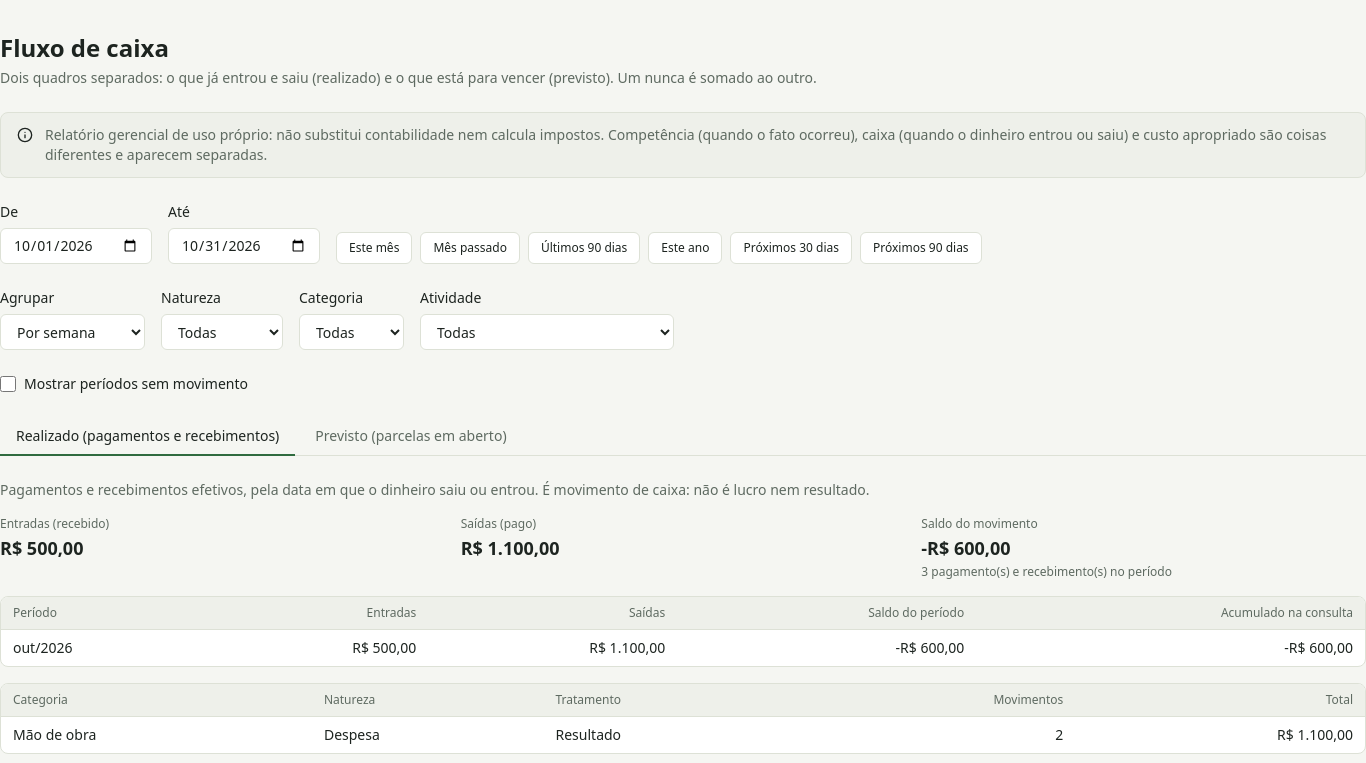
Test: fluxo de caixa › realizado e previsto em abas separadas; aviso de pendentes só no previsto
(page scrolled)
Expected: the text "out/2026" is shown, x1=1 y1=630 x2=209 y2=666
Expected: the text "nov/2026" is not shown
Click the checkbox labelled "Mostrar períodos sem movimento". click: click(8, 384)
box: x1=0 y1=376 x2=16 y2=392
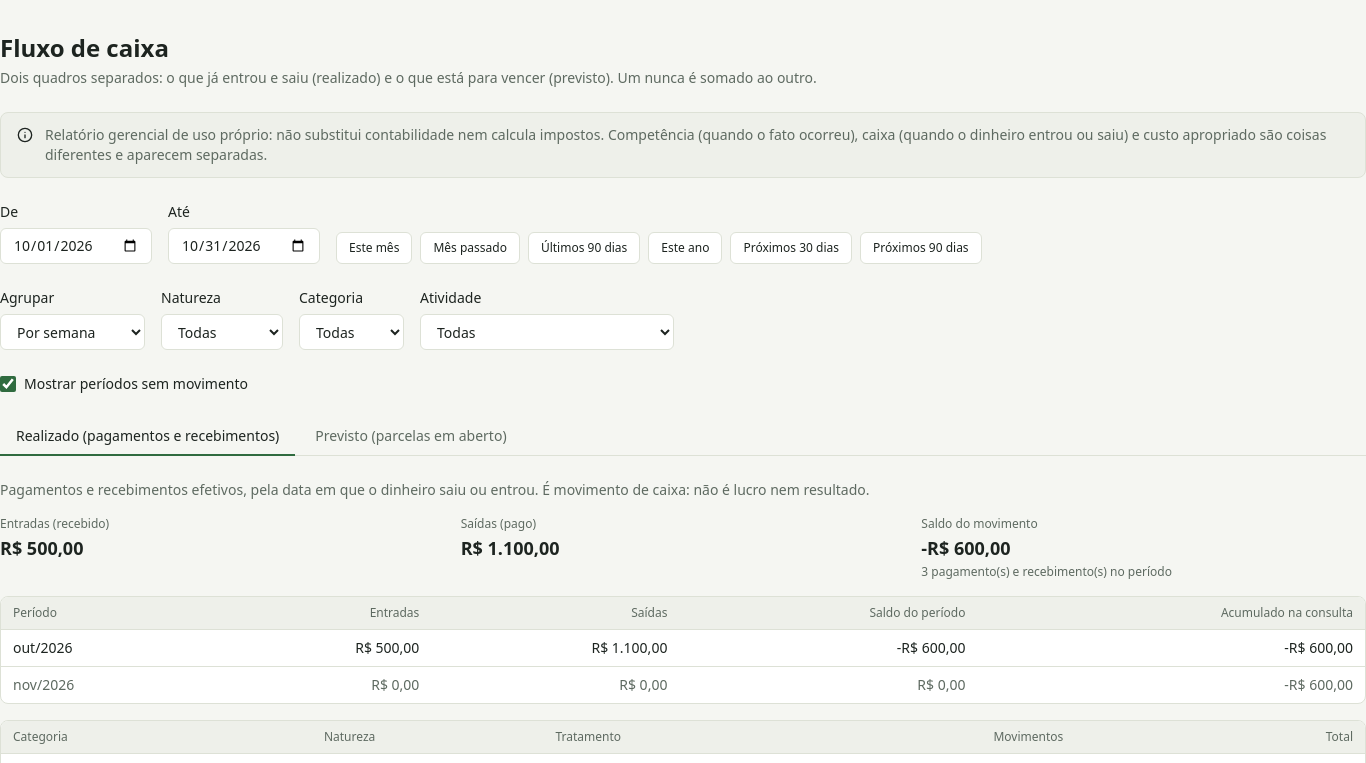
Expected: the text "sem condição de pagamento definida" is not shown
Result: the text "nov/2026" is shown at x1=1 y1=666 x2=212 y2=703
Click the tab "Previsto (parcelas em aberto)". click: click(411, 437)
box: x1=299 y1=418 x2=523 y2=456
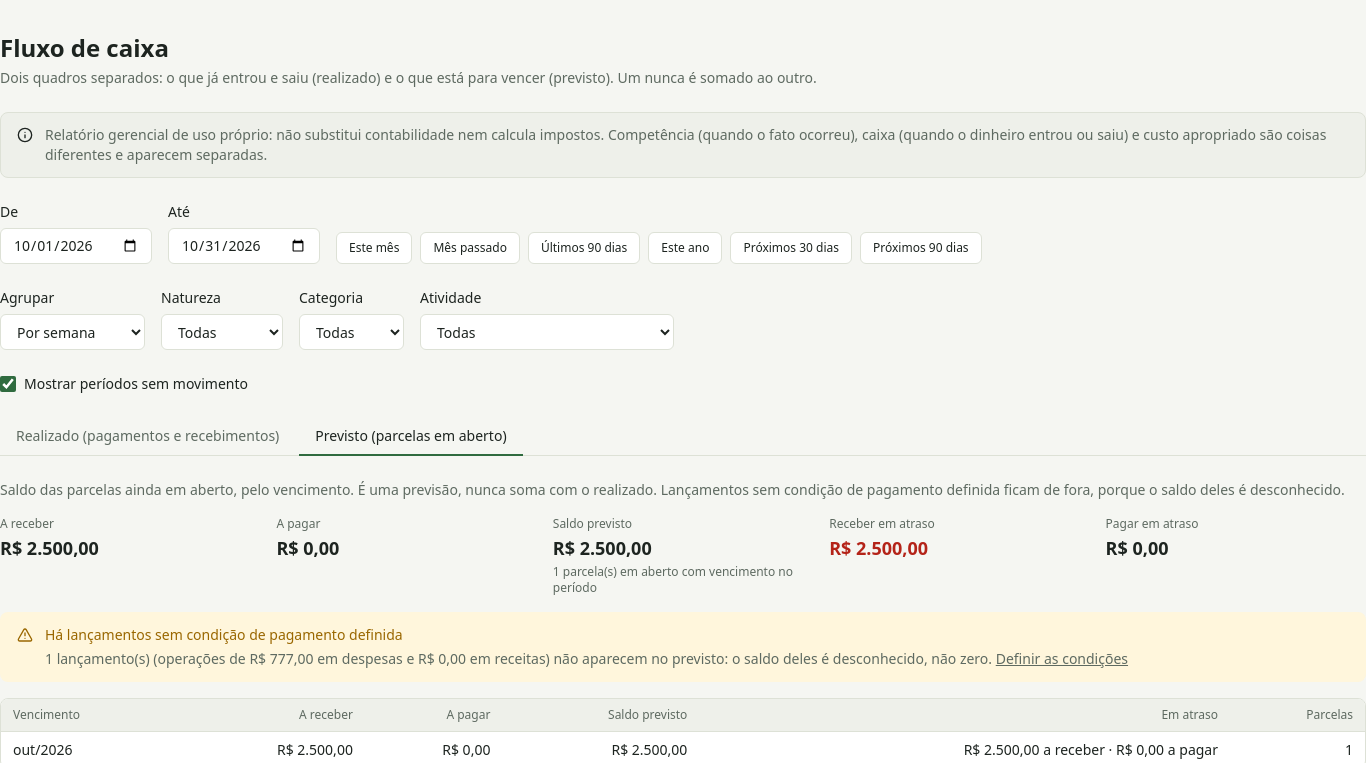
Result: the text "previsão, nunca soma com o realizado" is shown at x1=0 y1=480 x2=1345 y2=499
Result: the text "Há lançamentos sem condição de pagamento definida" is shown at x1=45 y1=625 x2=403 y2=644
Result: the text "o saldo deles é desconhecido, não zero" is shown at x1=466 y1=649 x2=992 y2=668
